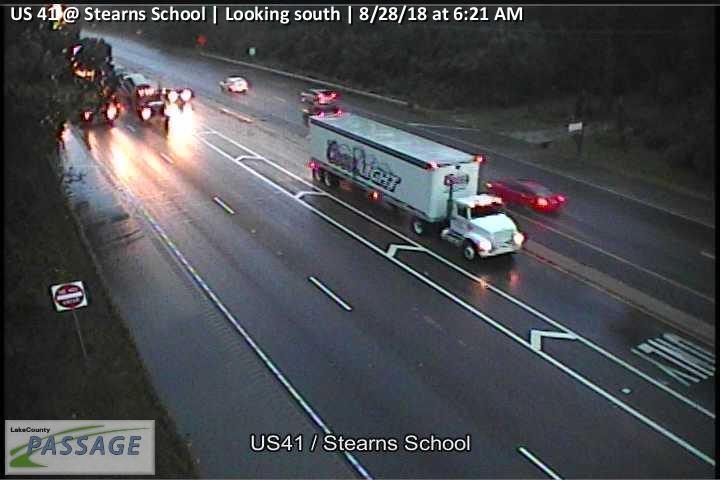Sedan: (484, 174, 565, 210), (298, 87, 339, 105), (218, 75, 249, 93)
Truck: (304, 112, 525, 258)
